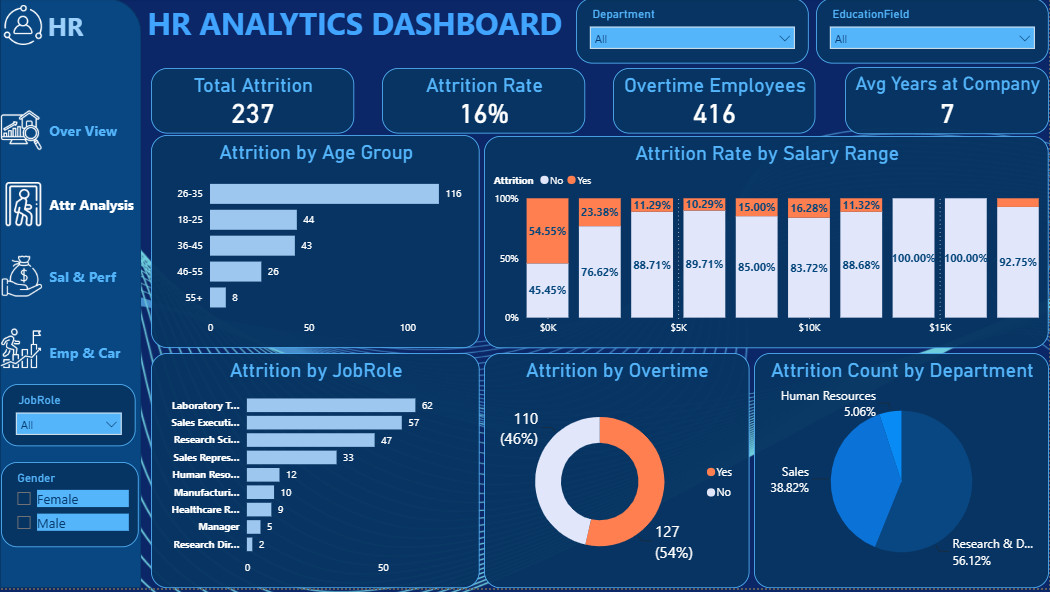

This screenshot's page, from the dashboard's own definition file:
{"tool":"powerbi","page":{"name":"Attrition Analysis","canvas":[1280,720],"ordinal":1},"visuals":[{"type":"textbox","box":[172,0,521.3,61.3],"z":0},{"type":"shape","box":[0,0,172.4,720],"z":1000},{"type":"image","box":[0,5.3,55.8,55.8],"z":1000,"group":"g1"},{"type":"card","title":"Total Attrition","fields":{"Values":["HR Dataset.Attrition Count"]},"box":[184,85.7,248,80],"z":2000},{"type":"actionButton","box":[55.8,142.2,111.7,39.9],"z":2000,"group":"g1"},{"type":"card","title":"Attrition Rate","fields":{"Values":["HR Dataset.Attrition Rate"]},"box":[466.3,85.7,248,80],"z":3000},{"type":"actionButton","box":[55.8,232.6,111.7,39.9],"z":3000,"group":"g1"},{"type":"card","title":"Overtime Employees","fields":{"Values":["HR Dataset.Overtime Employees"]},"box":[748.6,85.7,247.1,80],"z":4000},{"type":"actionButton","box":[55.8,320.3,111.7,39.9],"z":4000,"group":"g1"},{"type":"card","title":"Avg Years at Company","fields":{"Values":["HR Dataset.Avg Years at Company"]},"box":[1030.7,84,248.9,81.8],"z":5000},{"type":"actionButton","box":[55.8,413.4,111.7,39.9],"z":5000,"group":"g1"},{"type":"image","box":[0,136.9,51.8,49.2],"z":6000,"group":"g1"},{"type":"barChart","title":"Attrition by Age Group","fields":{"Category":["HR Dataset.Age Group"],"Y":["HR Dataset.Attrition Count"]},"box":[184,166.7,401.3,260],"z":6000},{"type":"image","box":[0,224.6,57.2,54.5],"z":7000,"group":"g1"},{"type":"clusteredBarChart","title":"Attrition by JobRole","fields":{"Category":["HR Dataset.JobRole"],"Y":["HR Dataset.Attrition Count"]},"box":[184,433.3,401.3,286.7],"z":7000},{"type":"image","box":[1.3,312.3,50.5,54.5],"z":8000,"group":"g1"},{"type":"donutChart","title":"Attrition by Overtime","fields":{"Y":["HR Dataset.Attrition Count"],"Category":["HR Dataset.OverTime"]},"box":[591.2,433.2,323.5,286.8],"z":8000},{"type":"hundredPercentStackedColumnChart","title":"Attrition Rate by Salary Range","fields":{"Y":["CountNonNull(HR Dataset.Attrition)"],"Category":["HR Dataset.Salary (bins)"],"Series":["HR Dataset.Attrition"]},"box":[590.7,168,689.3,258.7],"z":9000},{"type":"image","box":[0,401.4,50.5,51.8],"z":9000,"group":"g1"},{"type":"pieChart","fields":{"Category":["HR Dataset.Department"],"Y":["HR Dataset.Attrition Count"]},"box":[920,433.3,360,286.7],"z":10000},{"type":"slicer","fields":{"Values":["HR Dataset.Department"]},"box":[702.9,0,284.3,80],"z":11000},{"type":"slicer","fields":{"Values":["HR Dataset.EducationField"]},"box":[995.7,0,284.3,80],"z":12000},{"type":"slicer","fields":{"Values":["HR Dataset.Gender"]},"box":[1.5,566.2,167.6,104.4],"z":12000,"group":"g1"},{"type":"group","id":"g1","title":"Group 1","box":[0,5.3,169.1,665.3],"z":13000},{"type":"slicer","fields":{"Values":["HR Dataset.JobRole"]},"box":[2.9,472,163.2,76.5],"z":13000,"group":"g1"}]}

Visuals, with their boxes in screenshot pixels (x1, y1, x2, y2), scaled from the page's 1280x720 canvas onto the 1050x592 screenshot:
textbox: box(141, 0, 569, 50)
shape: box(0, 0, 141, 591)
image: box(0, 4, 46, 50)
"Total Attrition" card: box(151, 70, 354, 136)
actionButton: box(46, 117, 137, 150)
"Attrition Rate" card: box(383, 70, 586, 136)
actionButton: box(46, 191, 137, 224)
"Overtime Employees" card: box(614, 70, 817, 136)
actionButton: box(46, 263, 137, 296)
"Avg Years at Company" card: box(845, 69, 1049, 136)
actionButton: box(46, 340, 137, 373)
image: box(0, 113, 42, 153)
"Attrition by Age Group" barChart: box(151, 137, 480, 351)
image: box(0, 185, 47, 229)
"Attrition by JobRole" clusteredBarChart: box(151, 356, 480, 591)
image: box(1, 257, 42, 302)
"Attrition by Overtime" donutChart: box(485, 356, 750, 591)
"Attrition Rate by Salary Range" hundredPercentStackedColumnChart: box(485, 138, 1049, 351)
image: box(0, 330, 41, 373)
pieChart - HR Dataset.Department x HR Dataset.Attrition Count: box(755, 356, 1049, 591)
slicer - HR Dataset.Department: box(577, 0, 810, 66)
slicer - HR Dataset.EducationField: box(817, 0, 1049, 66)
slicer - HR Dataset.Gender: box(1, 466, 139, 551)
"Group 1" group: box(0, 4, 139, 551)
slicer - HR Dataset.JobRole: box(2, 388, 136, 451)
